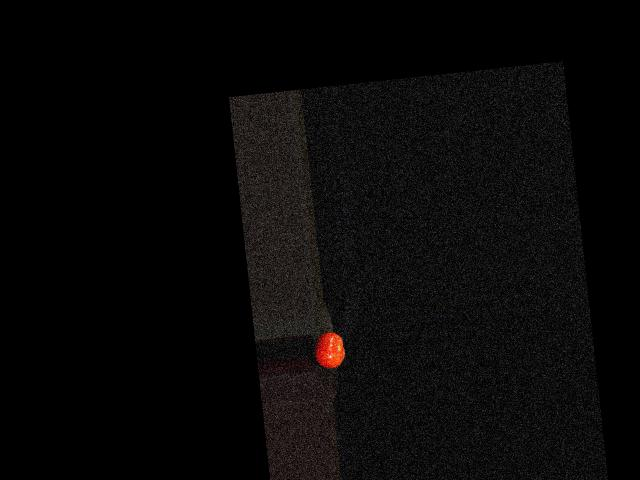tomato: (312, 330, 346, 370)
